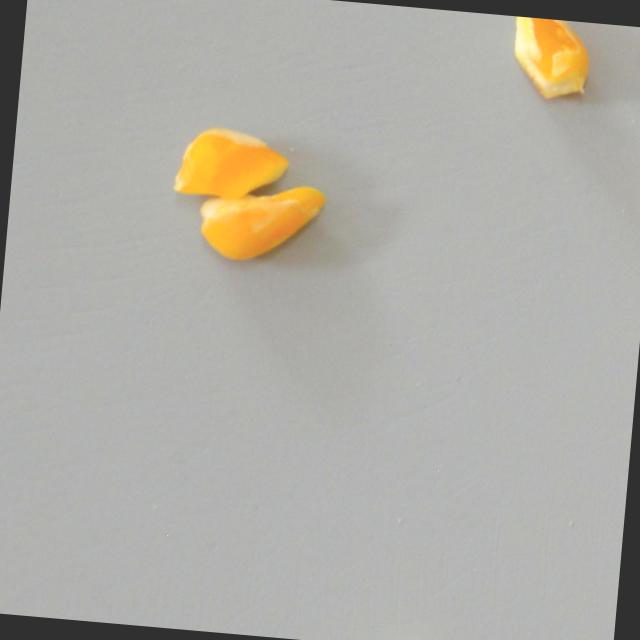pelicula: (159, 104, 305, 209), (189, 168, 335, 272), (498, 15, 600, 103)
